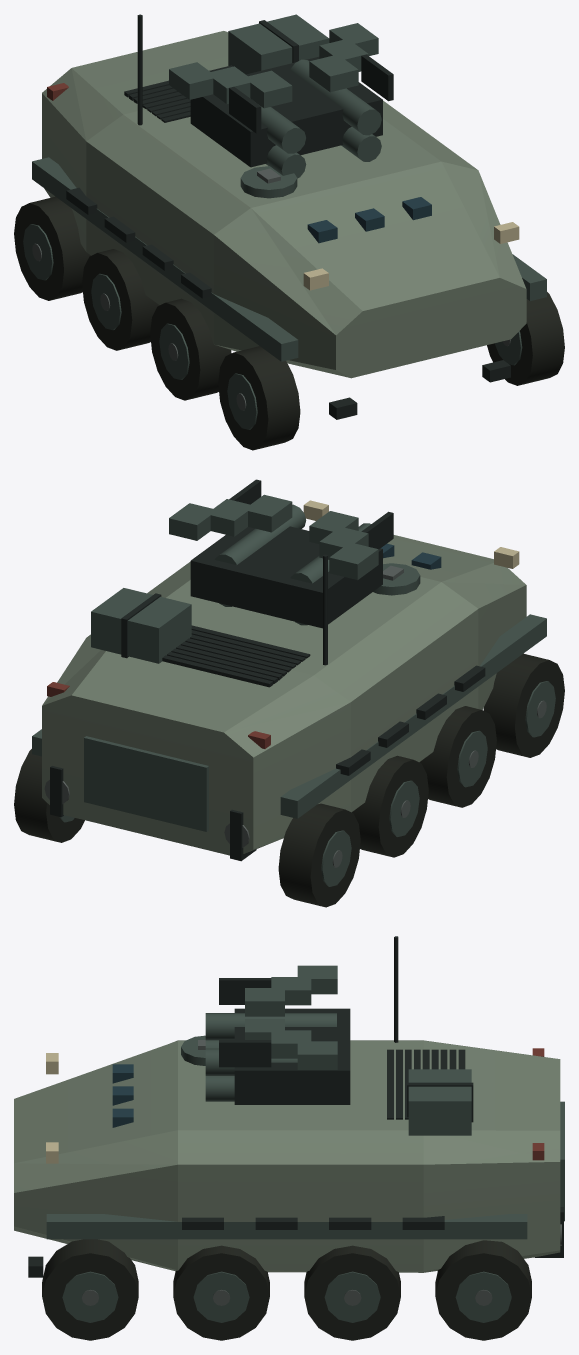
The model's file is tankDestroyer.glb.
3 views of the same model, one above another, from view 1: azimuth 30°, elevation 25°; view 2: azimuth 150°, elevation 25°; view 3: azimuth 270°, elevation 25° (orthographic). The views are drawn at different scales.
Visible parts, largest first — view 1: armor, equipment (×2), glass; view 2: equipment (×2), armor, glass; view 3: armor, equipment (×2), glass.
Boxes of the visible parts, x1,y1,x2,y2 form: armor: [42, 31, 526, 378]; equipment (×2): [14, 14, 564, 450]; glass: [307, 197, 431, 243]; equipment (×2): [14, 479, 564, 907]; armor: [42, 535, 526, 855]; glass: [381, 543, 441, 569]; armor: [14, 1040, 560, 1272]; equipment (×2): [28, 936, 564, 1340]; glass: [112, 1064, 133, 1127].
Size of the model in its own units: 3.19 by 3.05 by 5.24.
